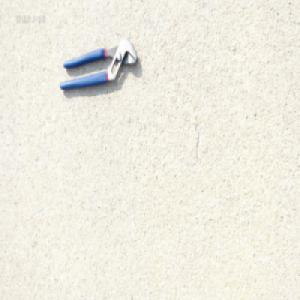Pliers: (57, 36, 138, 92)
